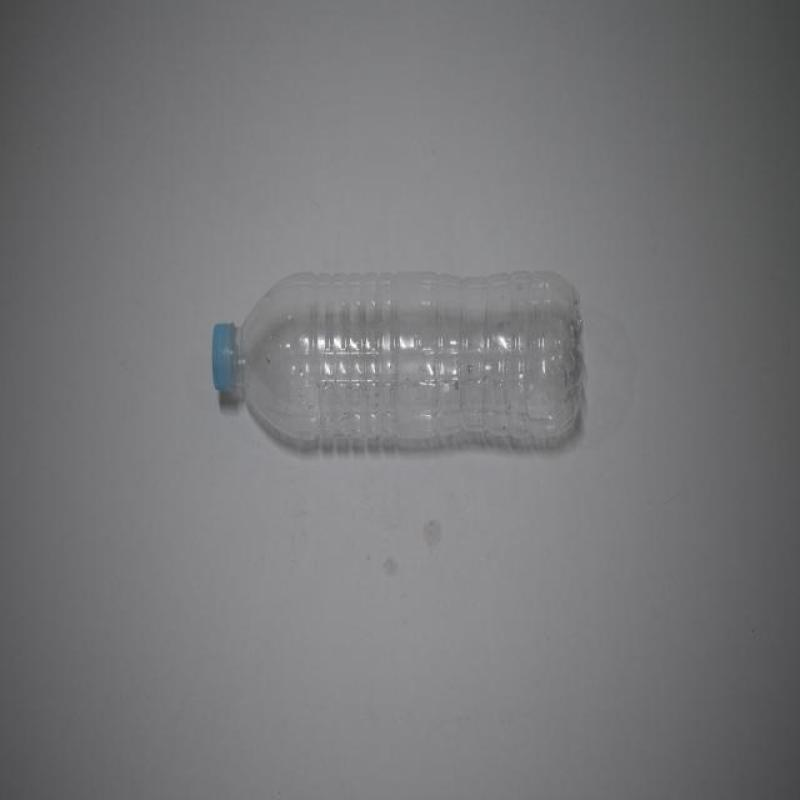botella: (212, 273, 586, 453)
